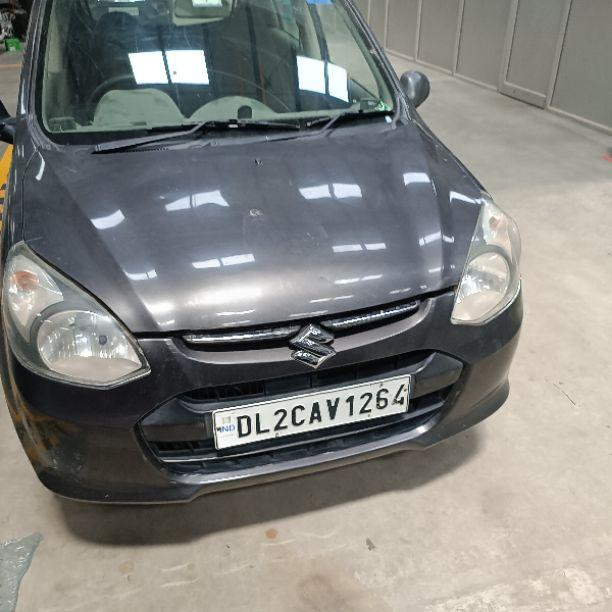license_plate: (210, 372, 412, 451)
